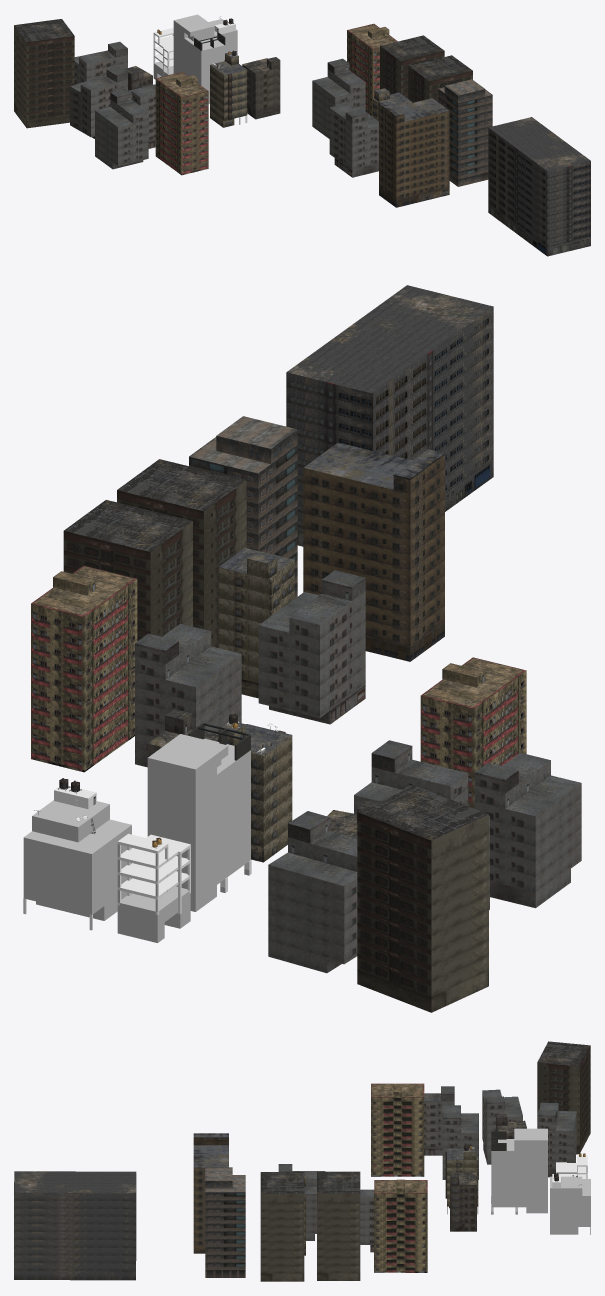
The model's file is Buildings Set 05.fbx.
The picture shows the model from 3 angles, top to bottom: view 1: azimuth 30°, elevation 25°; view 2: azimuth 150°, elevation 25°; view 3: azimuth 270°, elevation 25°; orthographic projection. The views are drawn at different scales.
Visible parts, largest first — view 1: Tower02 (×6), Tower05, Tower04 (×3), Tower01 (×2), Tower07, Tower08, HighendTall, Tower03 (×2), LowendTall_01, Tower06, BalconyTall_02; view 2: Tower02 (×5), Tower04 (×3), Tower05, Tower01 (×2), Tower07, HighendTall, BalconyTall_02, Tower08, Tower06, LowendTall_01, ConstTower_05, Tower03; view 3: Tower04 (×3), Tower05, Tower01 (×2), Tower02 (×6), Tower08, HighendTall, Tower07, BalconyTall_02, Tower03 (×2), LowendTall_01.
Boxes of the visible parts, x1=… form: Tower02 (×6): x1=70, y1=41, x2=378, y2=177; Tower05: x1=488, y1=117, x2=590, y2=256; Tower04 (×3): x1=14, y1=19, x2=472, y2=128; Tower01 (×2): x1=155, y1=23, x2=397, y2=175; Tower07: x1=379, y1=98, x2=449, y2=207; Tower08: x1=438, y1=79, x2=492, y2=186; HighendTall: x1=173, y1=14, x2=225, y2=103; Tower03 (×2): x1=123, y1=57, x2=280, y2=119; LowendTall_01: x1=210, y1=52, x2=247, y2=127; Tower06: x1=372, y1=88, x2=412, y2=120; BalconyTall_02: x1=208, y1=19, x2=237, y2=54; Tower02 (×5): x1=135, y1=570, x2=581, y2=973; Tower04 (×3): x1=63, y1=459, x2=488, y2=1012; Tower05: x1=286, y1=285, x2=493, y2=546; Tower01 (×2): x1=31, y1=565, x2=526, y2=808; Tower07: x1=303, y1=442, x2=444, y2=661; HighendTall: x1=147, y1=734, x2=250, y2=911; BalconyTall_02: x1=23, y1=800, x2=131, y2=920; Tower08: x1=189, y1=416, x2=297, y2=598; Tower06: x1=218, y1=547, x2=294, y2=698; LowendTall_01: x1=218, y1=721, x2=292, y2=862; ConstTower_05: x1=117, y1=844, x2=190, y2=942; Tower03: x1=147, y1=709, x2=217, y2=757; Tower04 (×3): x1=260, y1=1041, x2=590, y2=1281; Tower05: x1=14, y1=1171, x2=136, y2=1280; Tower01 (×2): x1=371, y1=1083, x2=427, y2=1272; Tower02 (×6): x1=278, y1=1086, x2=576, y2=1252; Tower08: x1=205, y1=1167, x2=245, y2=1277; HighendTall: x1=491, y1=1128, x2=547, y2=1214; Tower07: x1=193, y1=1133, x2=228, y2=1253; BalconyTall_02: x1=550, y1=1176, x2=590, y2=1234; Tower03 (×2): x1=450, y1=1114, x2=526, y2=1231; LowendTall_01: x1=445, y1=1148, x2=478, y2=1208.
Bounding box in the file's own units: 215 × 61.57 × 344.
